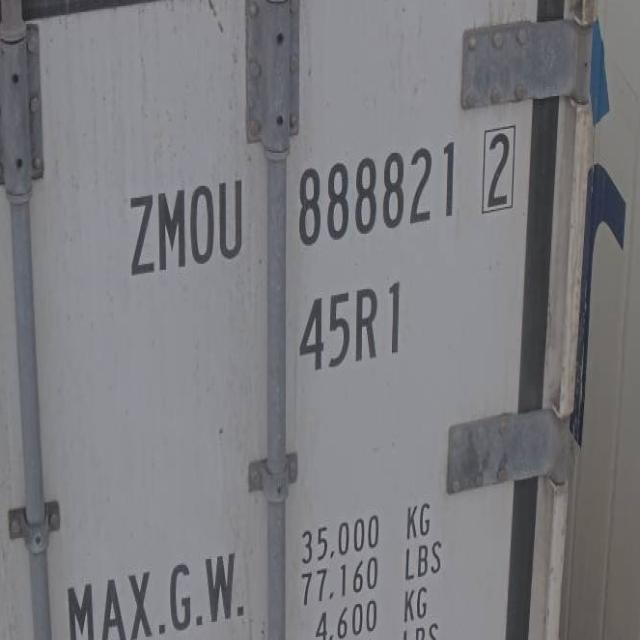dv: (477, 117, 520, 227)
owner: (118, 164, 250, 281)
serial: (291, 130, 459, 260)
size: (290, 280, 410, 383)
